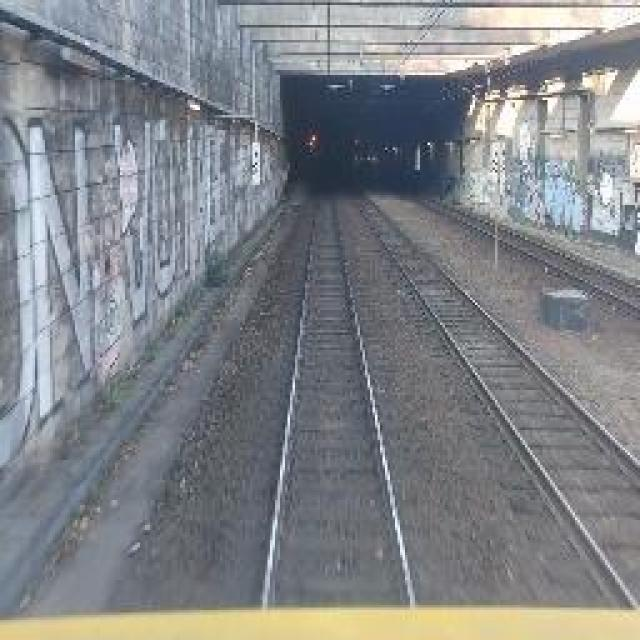rail: (238, 169, 442, 612)
